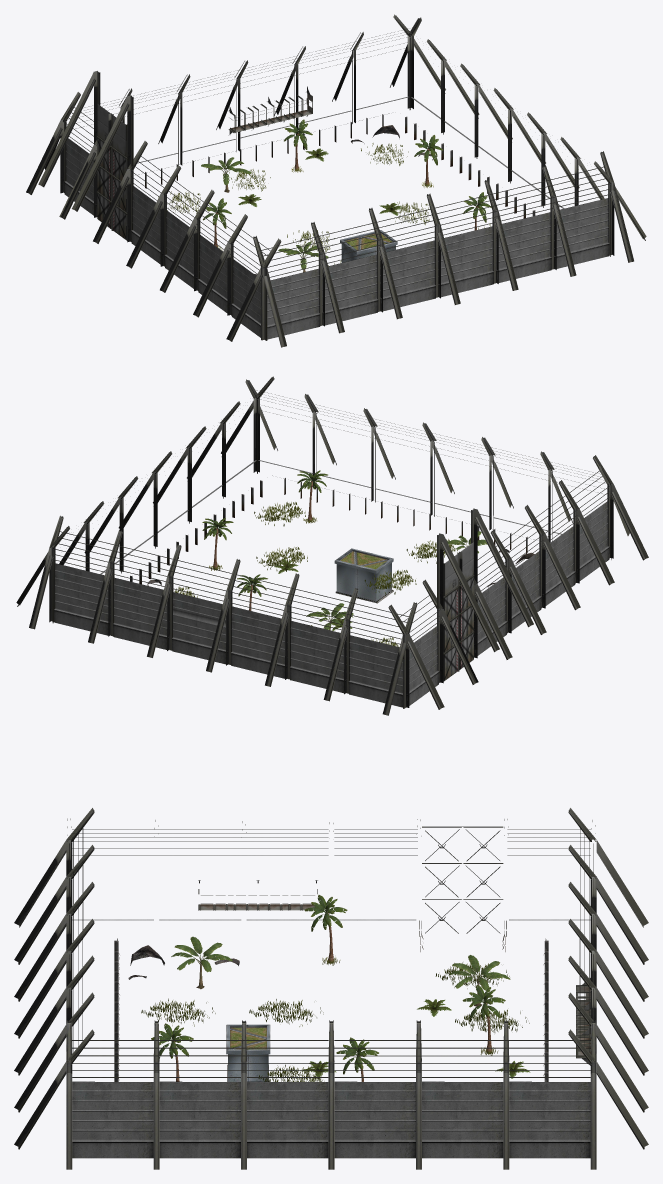
The picture shows the model from 3 angles, top to bottom: view 1: azimuth 30°, elevation 25°; view 2: azimuth 150°, elevation 25°; view 3: azimuth 270°, elevation 25°; orthographic projection. The views are drawn at different scales.
Visible parts, largest first — view 1: Mesh_0031_rip1, Mesh_0048_rip, Raised_Platform; view 2: Mesh_0031_rip1, Mesh_0048_rip, Raised_Platform; view 3: Mesh_0031_rip1, Mesh_0048_rip, Raised_Platform.
Boxes of the visible parts, left/top/right/bottom form: Mesh_0031_rip1: left=26, top=14, right=646, bottom=347; Mesh_0048_rip: left=158, top=119, right=491, bottom=272; Raised_Platform: left=340, top=230, right=397, bottom=262; Mesh_0031_rip1: left=16, top=376, right=648, bottom=715; Mesh_0048_rip: left=174, top=470, right=487, bottom=646; Raised_Platform: left=334, top=548, right=393, bottom=603; Mesh_0031_rip1: left=14, top=808, right=648, bottom=1169; Mesh_0048_rip: left=141, top=895, right=530, bottom=1081; Raised_Platform: left=226, top=1024, right=270, bottom=1081.
Size of the model in its own units: 82.58 by 30.38 by 78.13.
3 materials, 3 textured.
